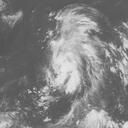cyclone: (49, 3, 93, 94)
